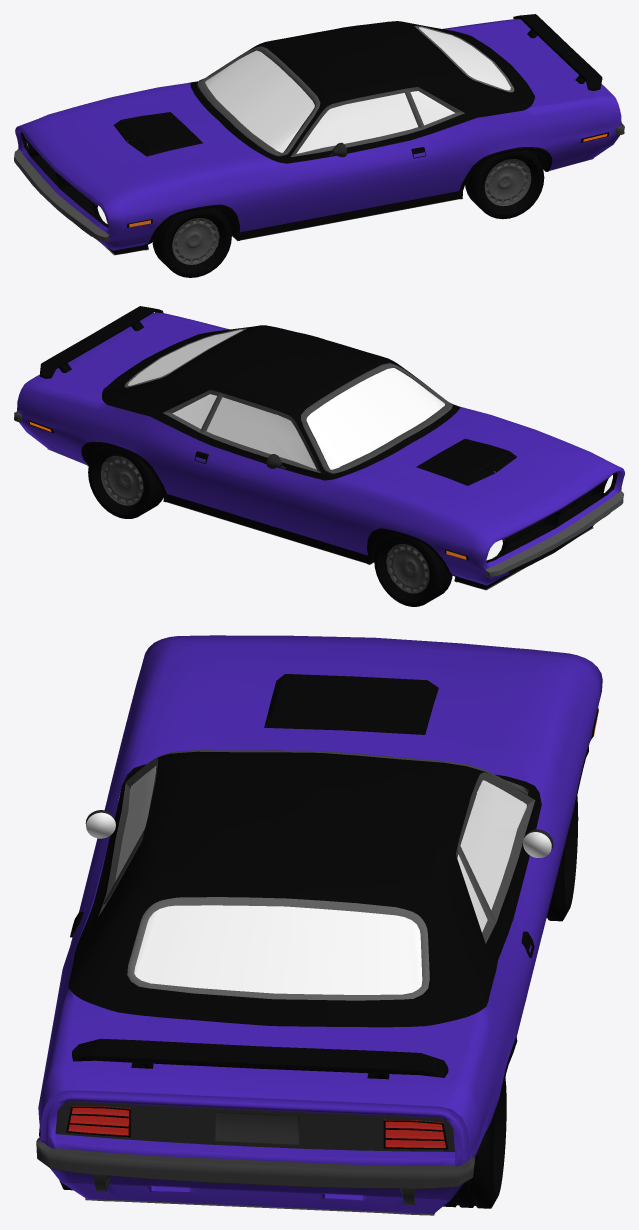
Rendered from car_2.glb.
3 renders of one model, top to bottom at view 1: azimuth 30°, elevation 25°; view 2: azimuth 150°, elevation 25°; view 3: azimuth 270°, elevation 25°, orthographic. The views are drawn at different scales.
Parts seen in each view (by area): view 1: Low poly plymouth car.008; view 2: Low poly plymouth car.008; view 3: Low poly plymouth car.008.
Boxes of the visible parts, left/top/right/bottom form: Low poly plymouth car.008: left=14, top=14, right=624, bottom=277; Low poly plymouth car.008: left=14, top=306, right=624, bottom=606; Low poly plymouth car.008: left=36, top=635, right=602, bottom=1215.
Bounding box in the file's own units: 2.79 × 0.7482 × 1.32.
